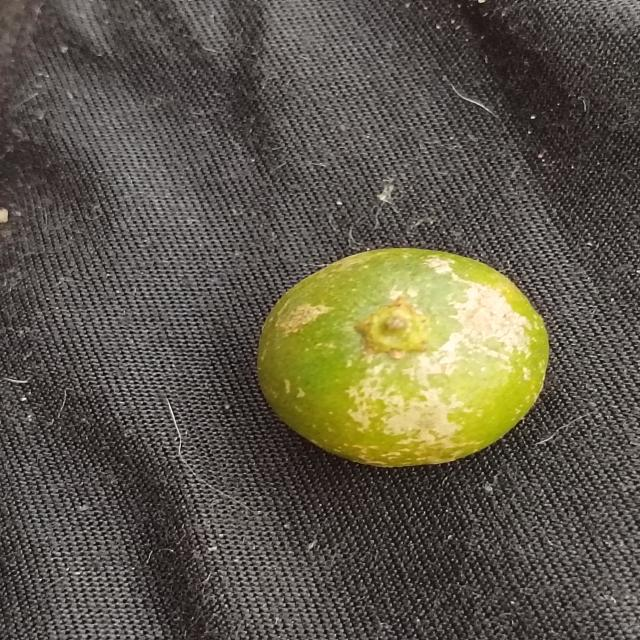scab: (258, 252, 552, 458)
